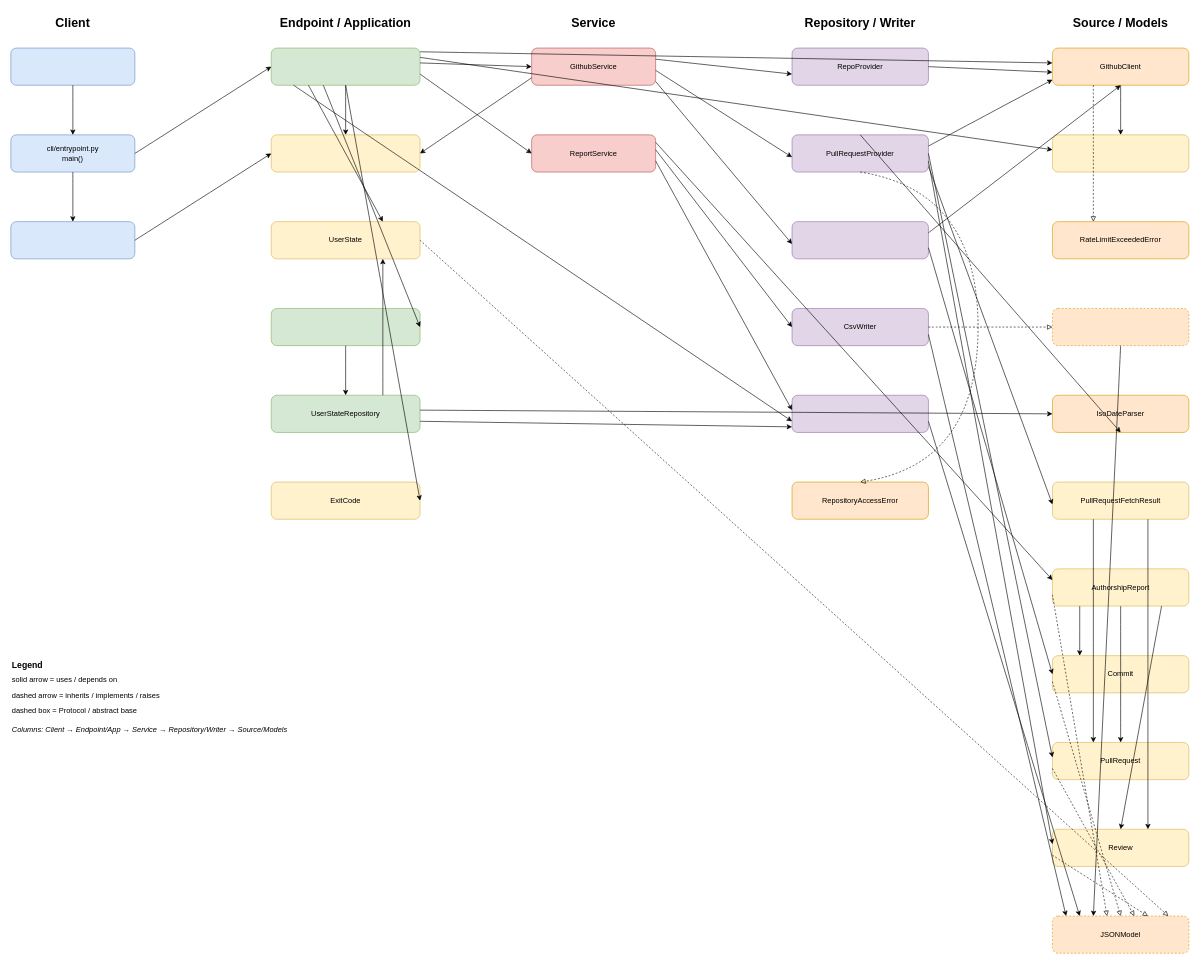
Some shapes in this 1200 by 964 pixel diagram are drawn without their labels. Here are the shapes that lost their labels. From the top down, the centre of each, then its label:
the point at 72,66: __main__.py
the point at 345,66: application/main.py run()
the point at 345,153: AppSettings
the point at 1120,153: GithubSettings
the point at 72,240: ArgumentParser
the point at 859,240: CommitProvider
the point at 345,327: UserStateService
the point at 1120,327: Writer (Protocol)
the point at 859,413: JSONFileHandler
